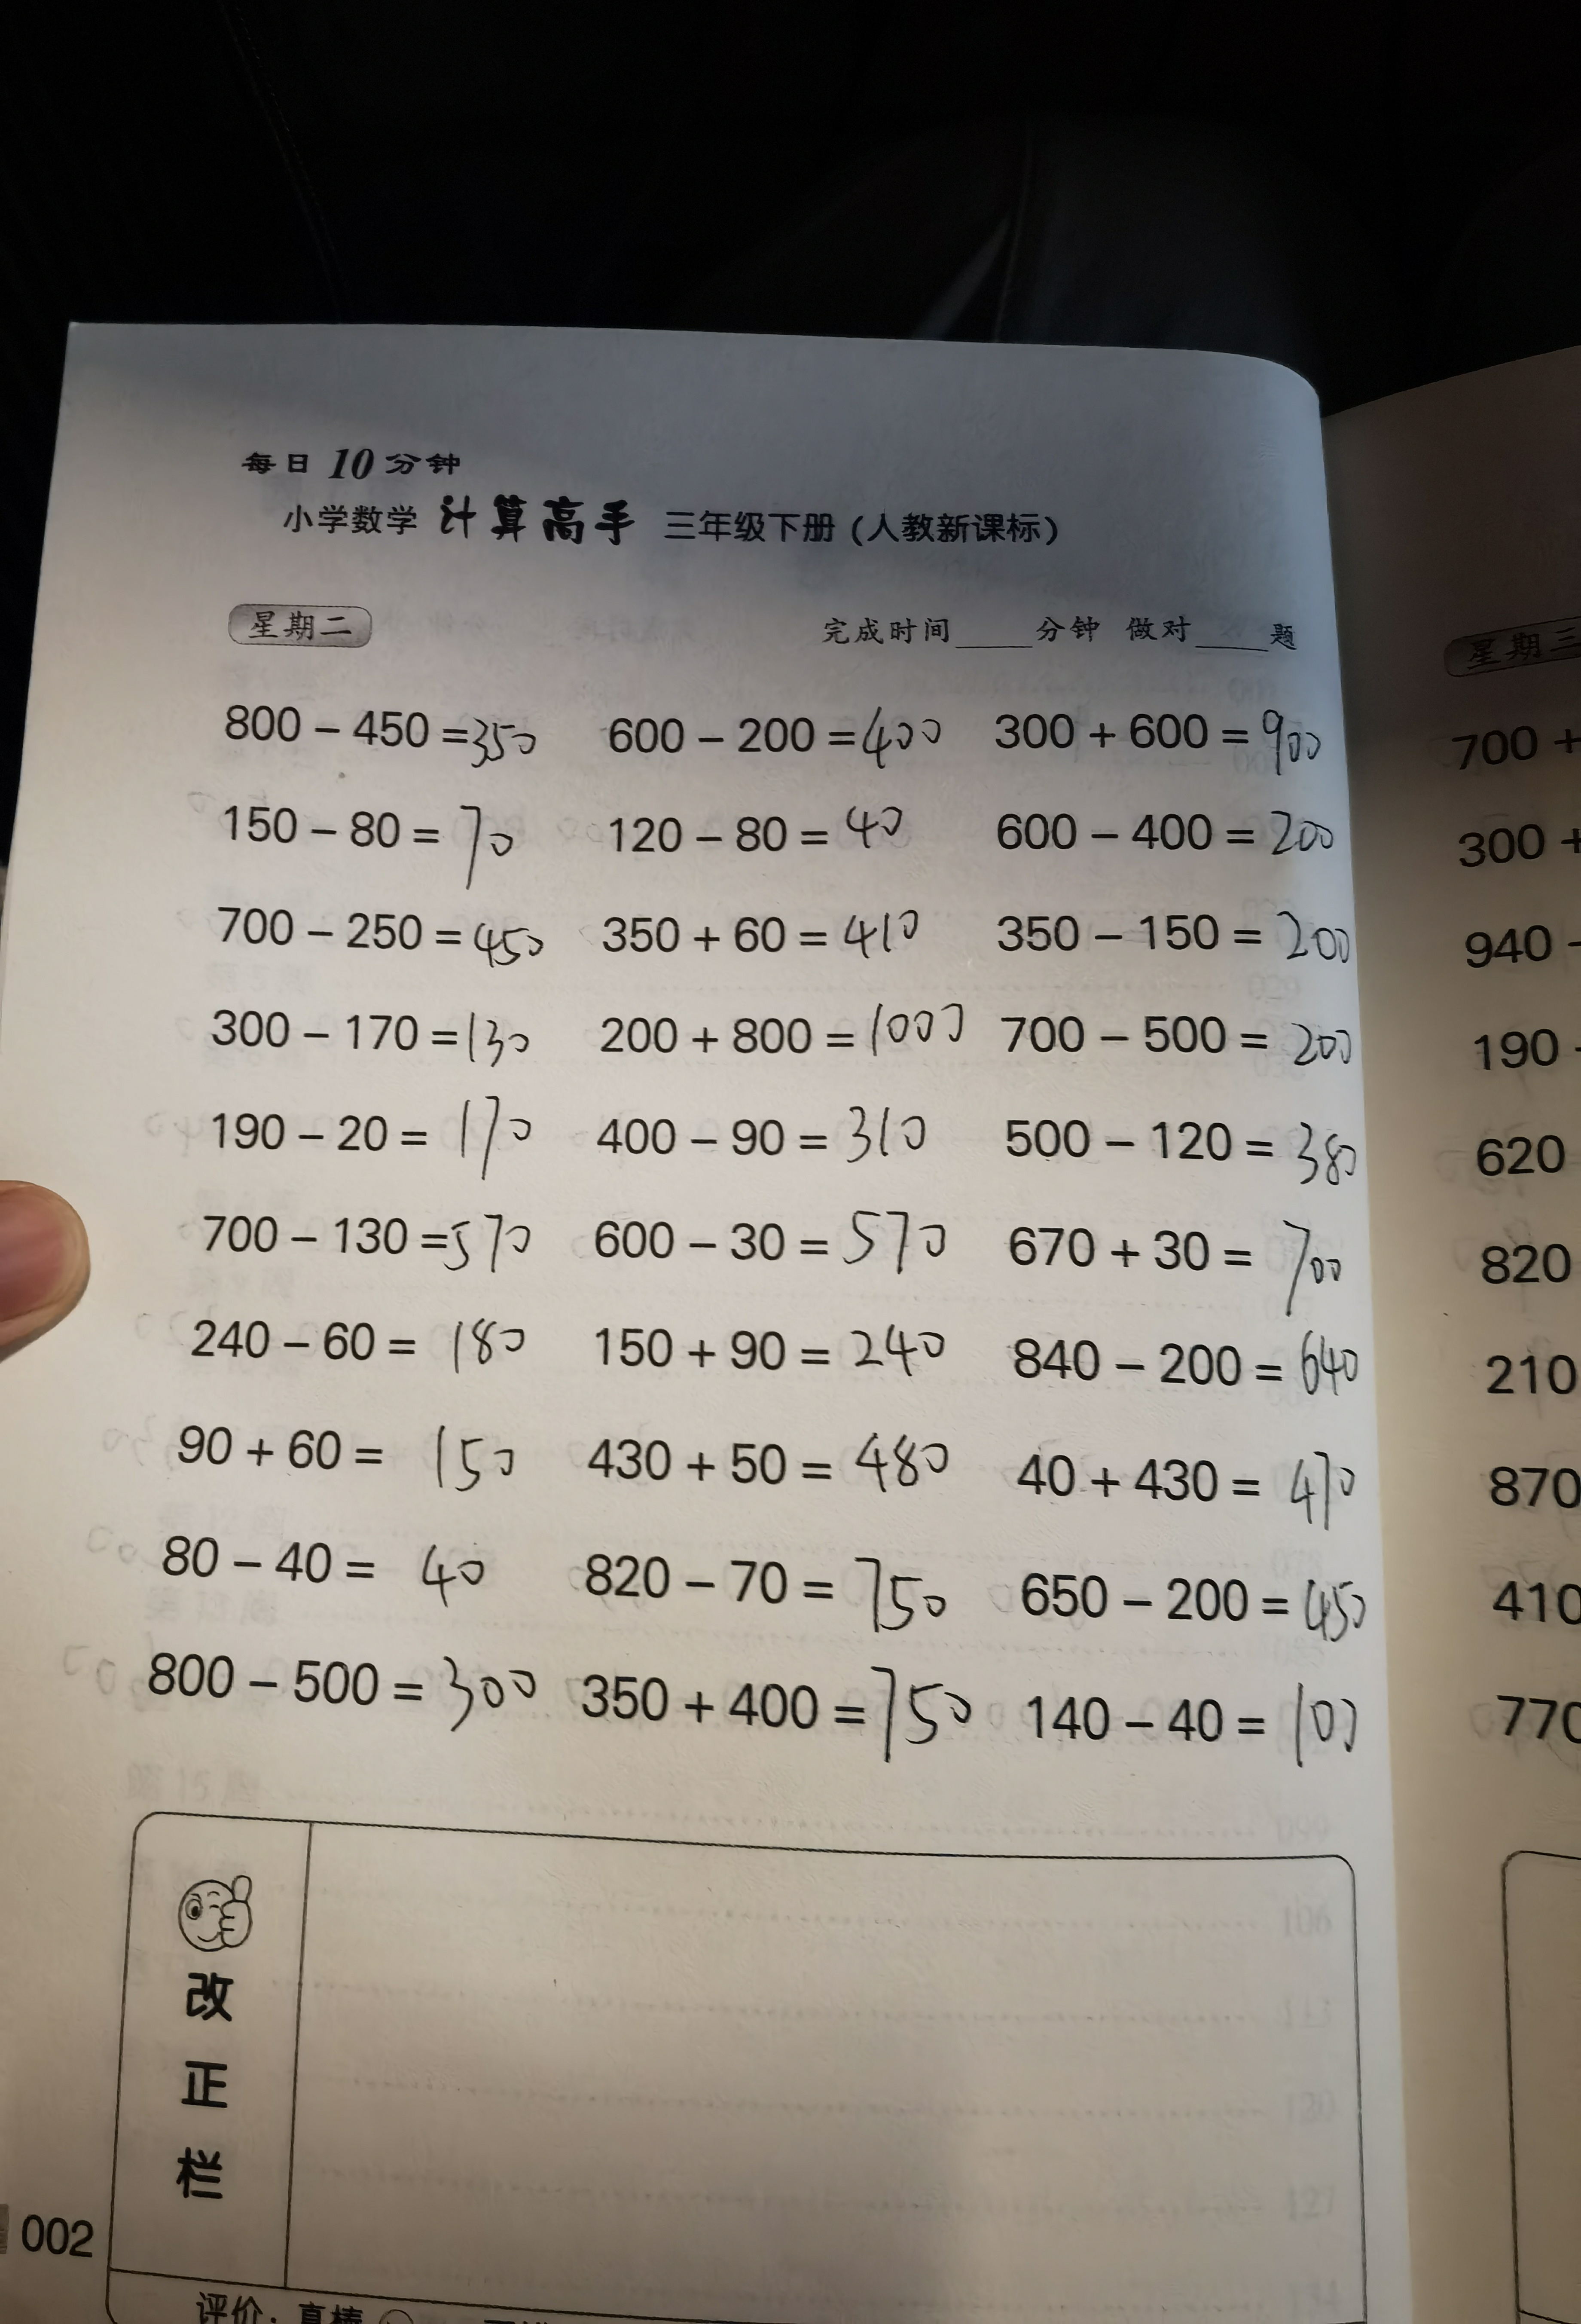equation: (1018, 1669, 1396, 1786), (566, 1662, 988, 1766), (162, 979, 559, 1089), (132, 1521, 536, 1627), (997, 1322, 1385, 1426), (124, 1645, 559, 1736), (566, 1549, 974, 1639), (173, 1094, 561, 1188), (974, 692, 1337, 787), (164, 1417, 533, 1509), (192, 895, 568, 985), (986, 1106, 1367, 1195), (210, 679, 547, 778), (180, 1205, 559, 1292), (180, 1301, 559, 1387), (1004, 1445, 1392, 1528), (1023, 1556, 1387, 1645), (217, 791, 533, 889), (595, 1200, 953, 1286), (591, 997, 988, 1073), (596, 697, 958, 778), (584, 1316, 963, 1392), (1000, 1214, 1355, 1293), (588, 1433, 958, 1509), (999, 896, 1378, 971), (600, 886, 953, 965), (992, 801, 1345, 873), (596, 1108, 946, 1172), (600, 801, 910, 872), (1011, 1011, 1360, 1073)
